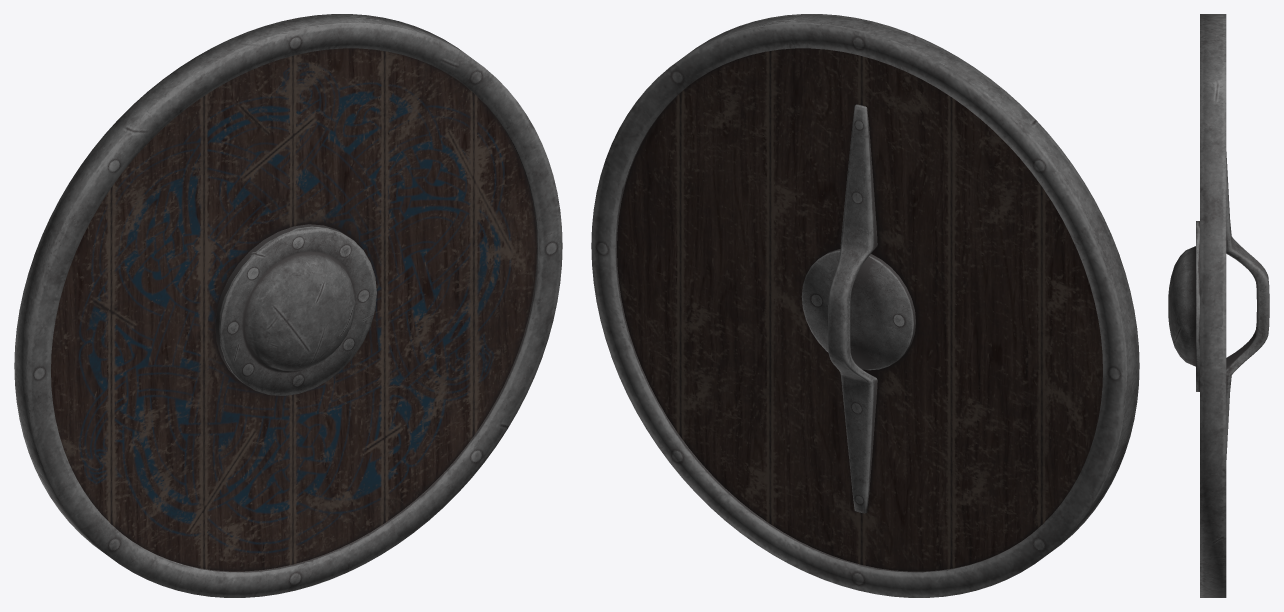
3 renders of one model, left to right at view 1: azimuth 30°, elevation 25°; view 2: azimuth 150°, elevation 25°; view 3: azimuth 270°, elevation 25°, orthographic. The views are drawn at different scales.
Parts seen in each view (by area): view 1: Shield; view 2: Shield; view 3: Shield.
Boxes of the visible parts, left/top/right/bottom form: Shield: left=14, top=14, right=562, bottom=597; Shield: left=591, top=14, right=1139, bottom=597; Shield: left=1168, top=14, right=1269, bottom=597.
Size of the model in its own units: 50.14 by 50.14 by 8.7.
1 material, 1 textured.
